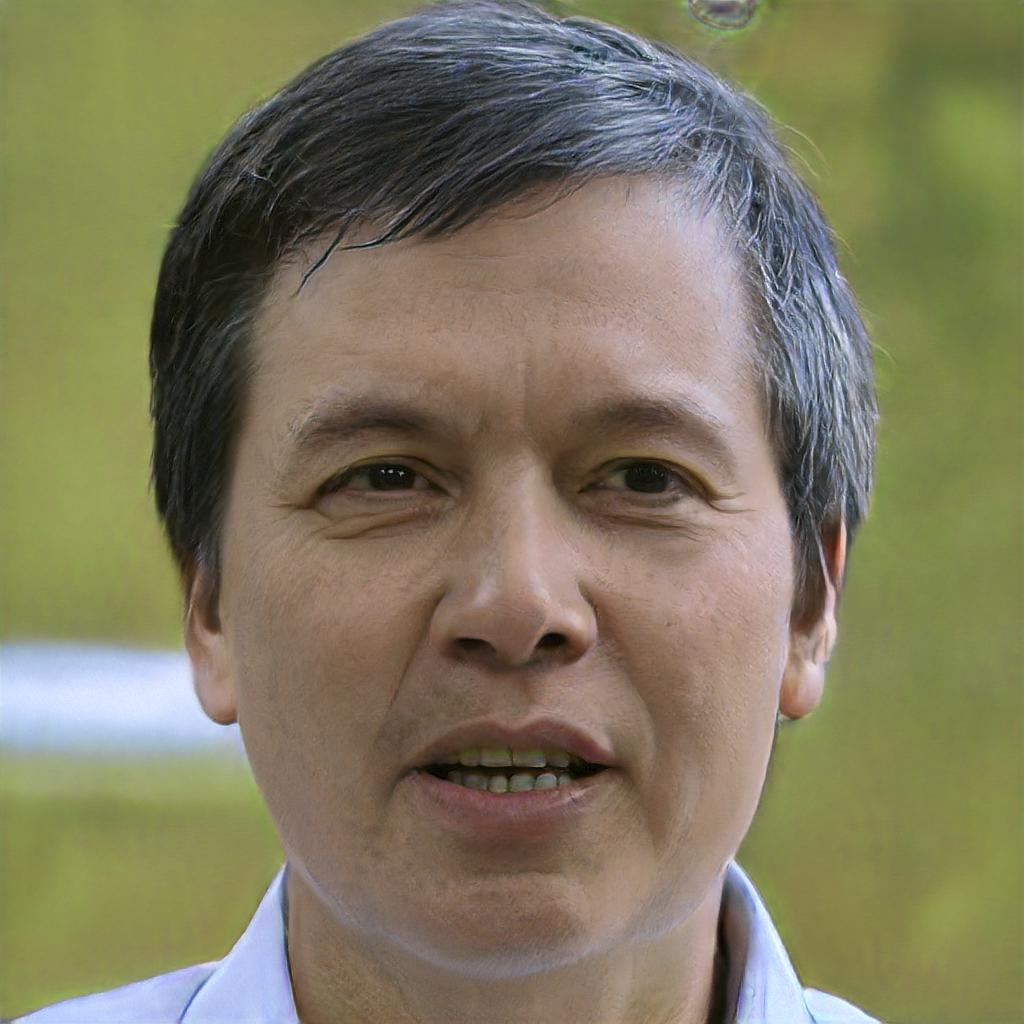face: (229, 178, 793, 977)
